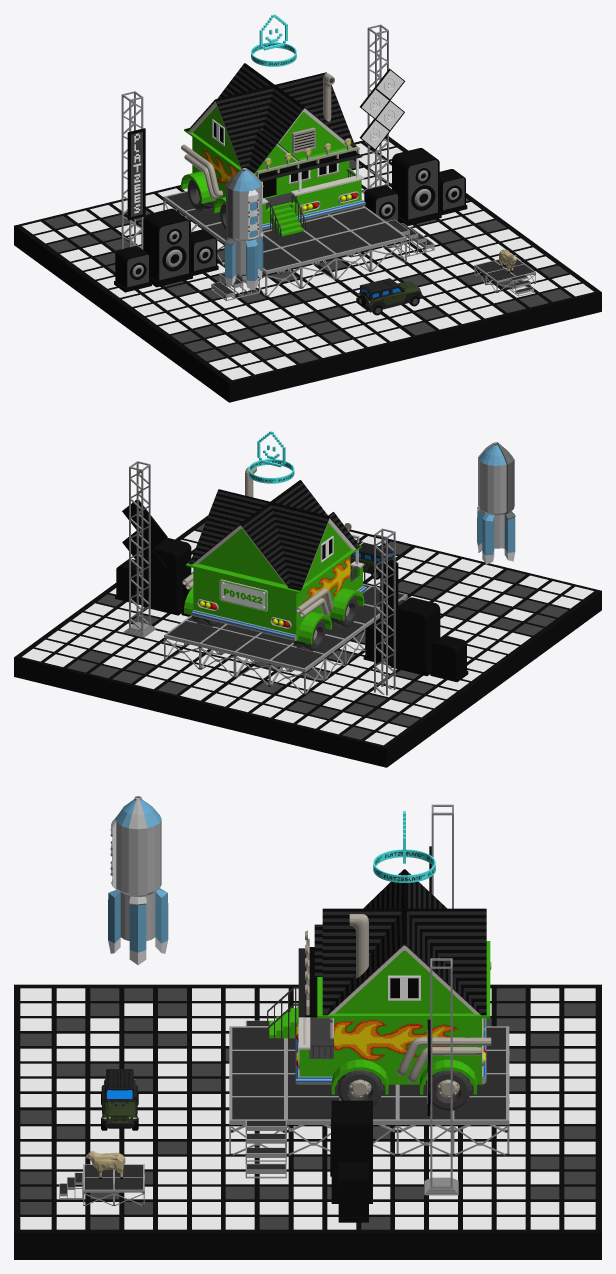
3 views of the same model, one above another, from view 1: azimuth 30°, elevation 25°; view 2: azimuth 150°, elevation 25°; view 3: azimuth 270°, elevation 25° (orthographic). The views are drawn at different scales.
Parts seen in each view (by area): view 1: Cube.008, Cube.1474, OBJRANDOM_ROCKETSHIP, VEHICLES_JEEP, TYPE_PREMIUM; view 2: Cube.008, Cube.1474, OBJRANDOM_ROCKETSHIP, TYPE_PREMIUM, VEHICLES_JEEP; view 3: Cube.008, Cube.1474, OBJRANDOM_ROCKETSHIP, VEHICLES_JEEP, TYPE_PREMIUM, ANIMAL_OVEJA.
Part boxes in pixels (box(x1,y1,x2,y2)): Cube.008: box(14, 24, 601, 402); Cube.1474: box(181, 63, 365, 237); OBJRANDOM_ROCKETSHIP: box(224, 168, 263, 290); VEHICLES_JEEP: box(356, 278, 422, 315); TYPE_PREMIUM: box(251, 14, 296, 66); Cube.008: box(14, 461, 601, 767); Cube.1474: box(182, 467, 366, 651); OBJRANDOM_ROCKETSHIP: box(477, 442, 515, 564); TYPE_PREMIUM: box(248, 431, 294, 483); VEHICLES_JEEP: box(350, 542, 396, 579); Cube.008: box(14, 804, 601, 1259); Cube.1474: box(267, 869, 491, 1110); OBJRANDOM_ROCKETSHIP: box(108, 796, 168, 965); VEHICLES_JEEP: box(101, 1069, 138, 1130); TYPE_PREMIUM: box(373, 811, 435, 882); ANIMAL_OVEJA: box(85, 1150, 125, 1178).
Size of the model in its own units: 4000 by 2519 by 4000.
Materials: 44 (3 with a texture image).
